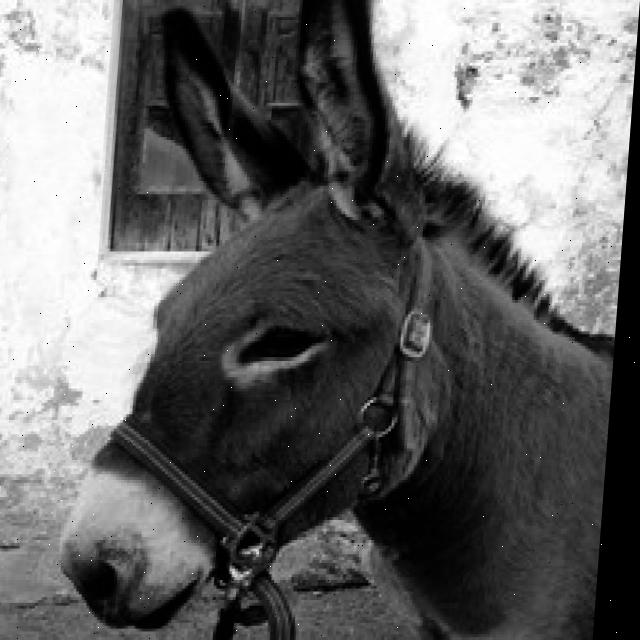Donkey: (50, 0, 637, 637)
